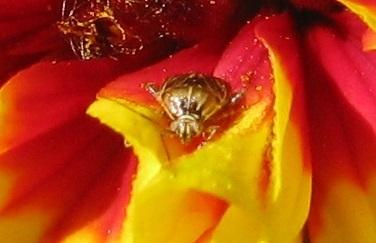plant_bugs: (127, 55, 248, 159)
